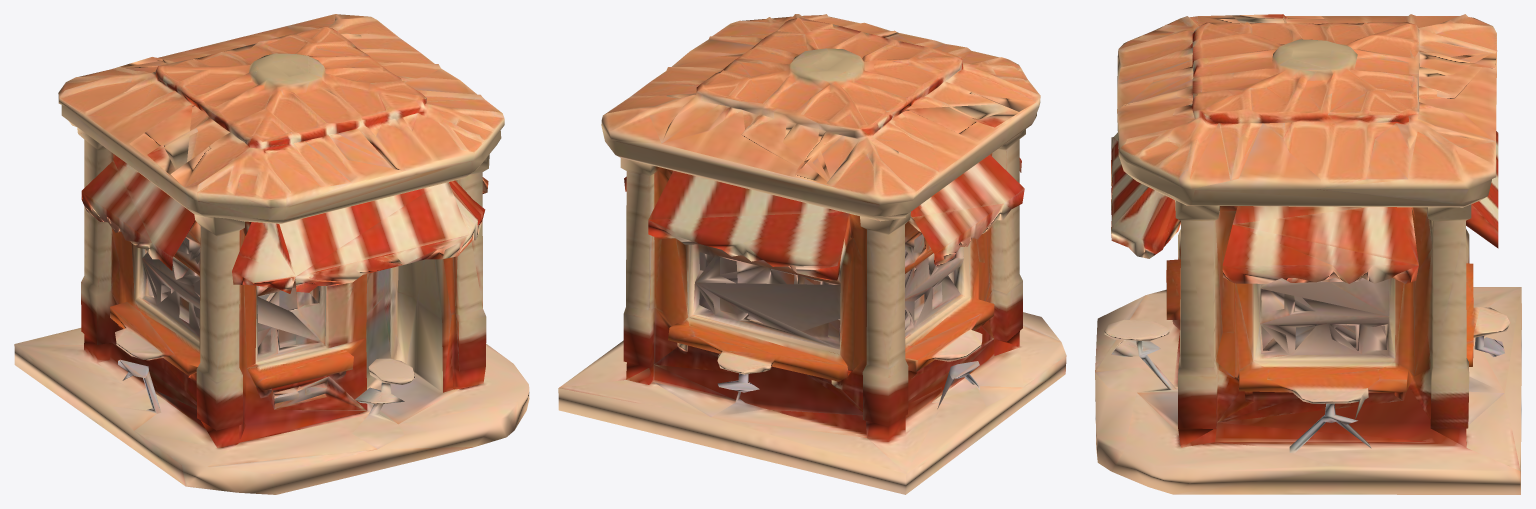
Rendered from cafe-512.glb.
The picture shows the model from 3 angles, left to right: view 1: azimuth 30°, elevation 25°; view 2: azimuth 150°, elevation 25°; view 3: azimuth 270°, elevation 25°; orthographic projection. The views are drawn at different scales.
Size of the model in its own units: 1.9 by 1.67 by 1.85.
1 material, 1 textured.
